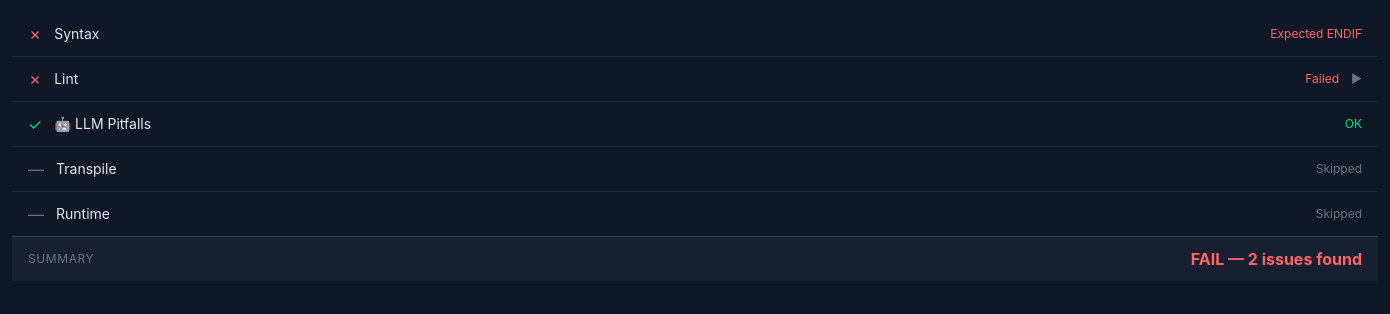
Scenario: the Validator issue list › prints no position for an issue whose position is unknown
Click the button "✗ Lint Failed ▶": (1322, 78) [12,57,1378,101]
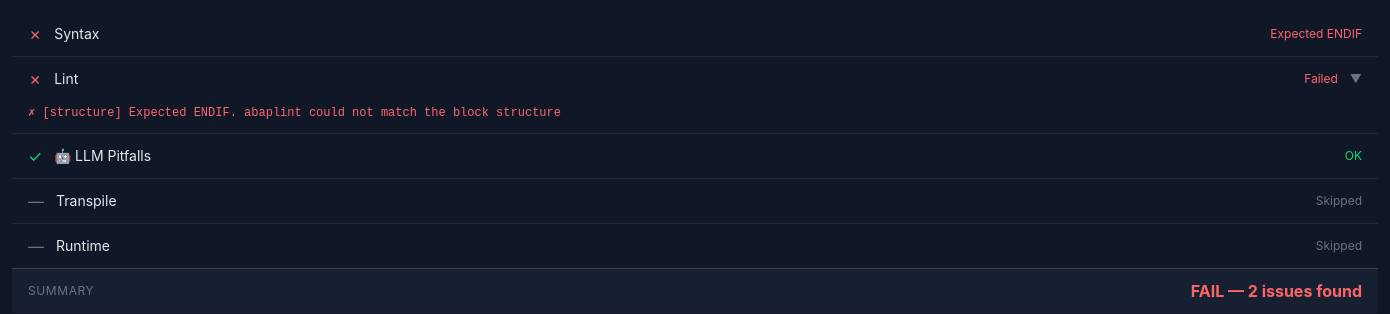
Expected: the list item "[structure]" reads "✗ [structure] Expected ENDIF. abaplint could not match the block structure", [28,106,561,120]
